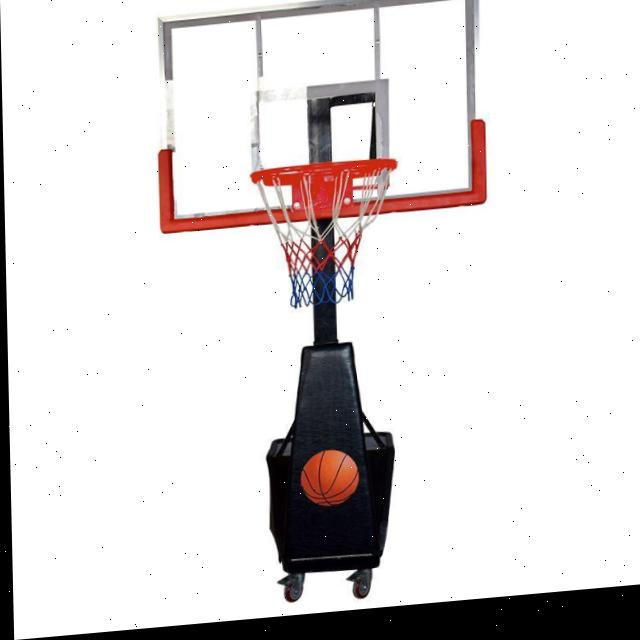basketball: (300, 447, 360, 511)
hoop: (250, 156, 401, 316)
